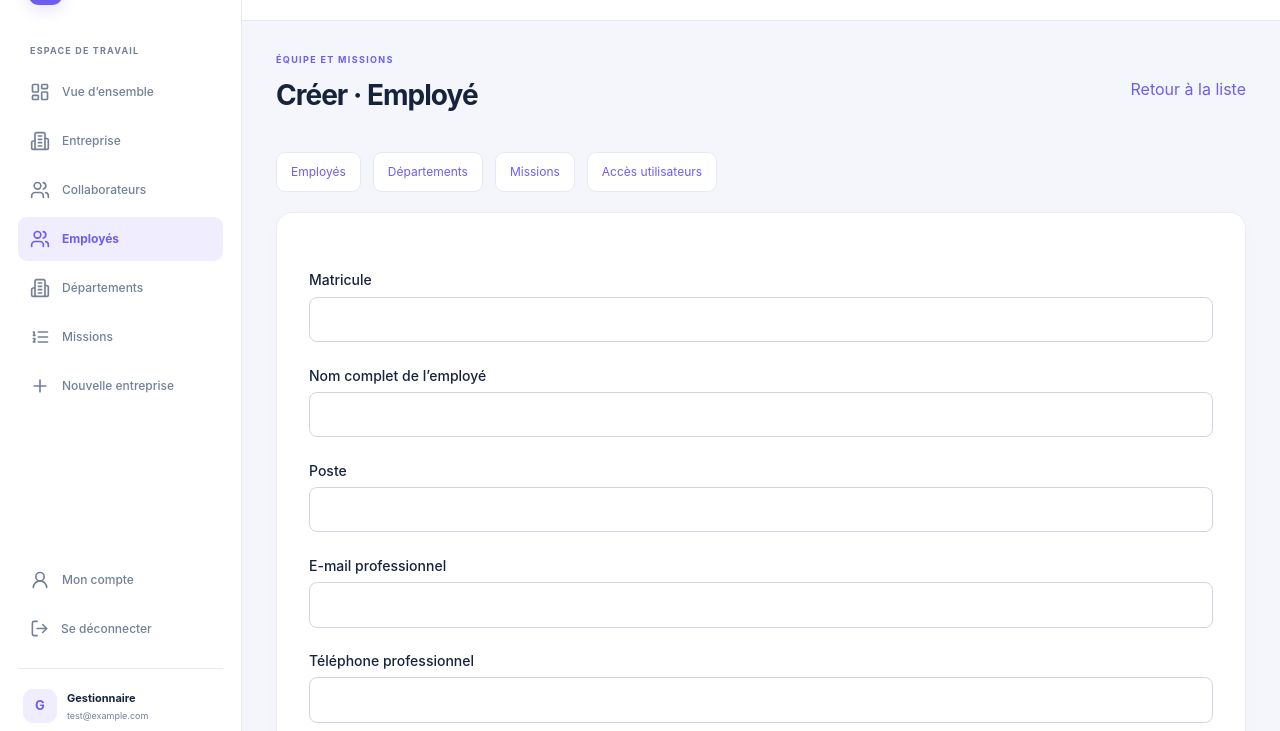
enregistre une fiche sans compte avec le département et des responsabilités
Type "EMP-01" into the field labelled "Matricule" at (761, 320), box top-left (309, 297), bottom-right (1213, 342)
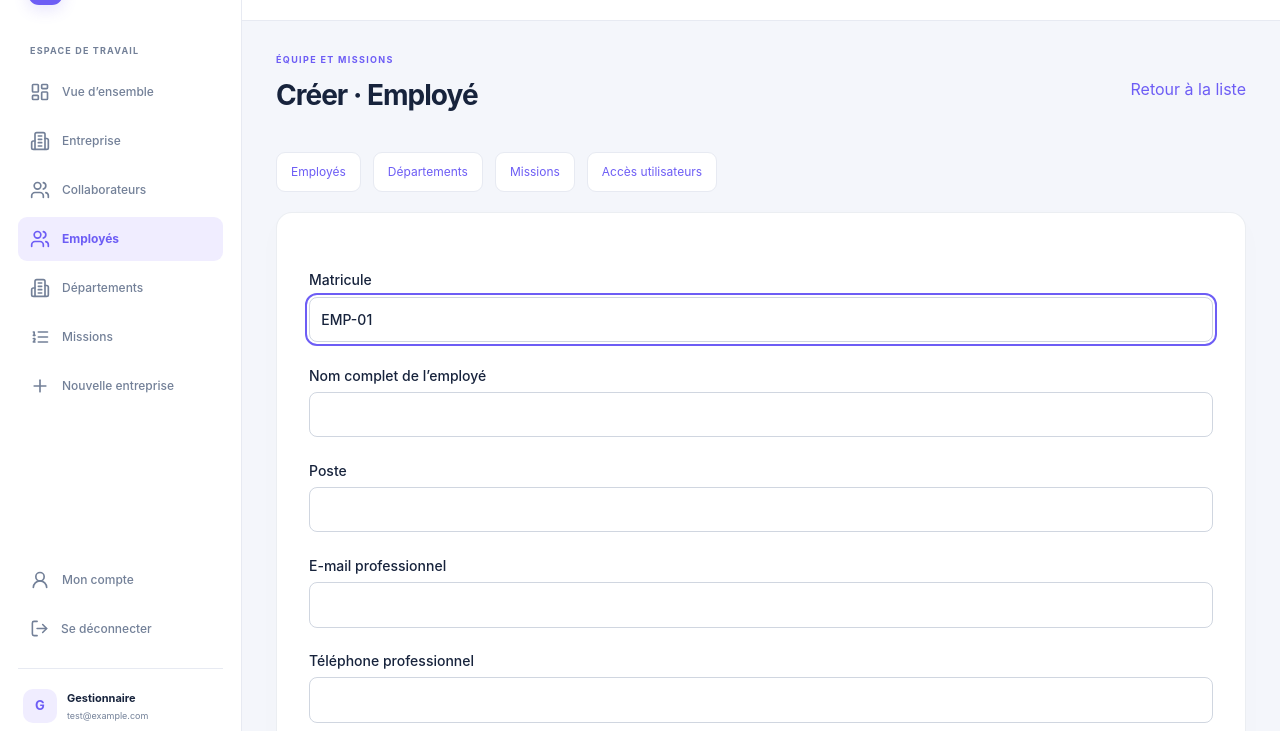
Type "Aminata Diallo" into the field labelled "Nom complet de l’employé" at (761, 415), box top-left (309, 392), bottom-right (1213, 437)
(page scrolled)
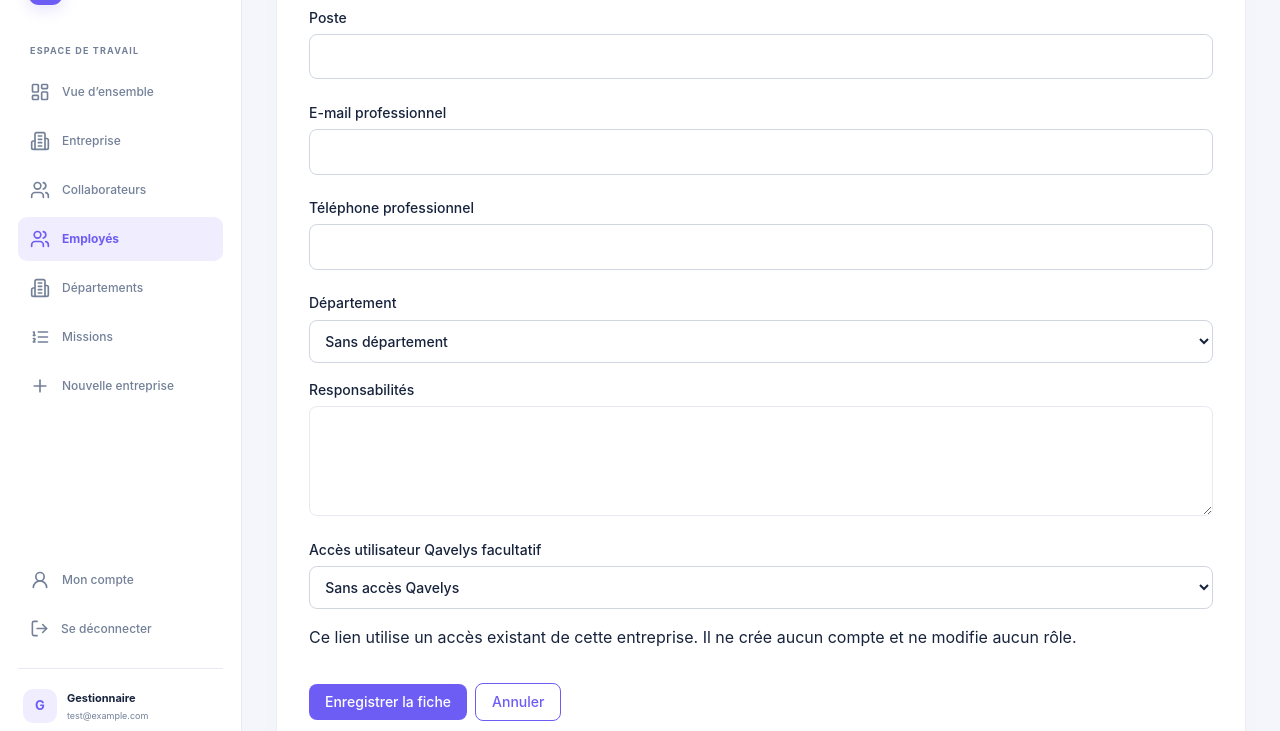
Select "Atelier" in the dropdown labelled "Département" at (761, 341), box top-left (309, 320), bottom-right (1213, 363)
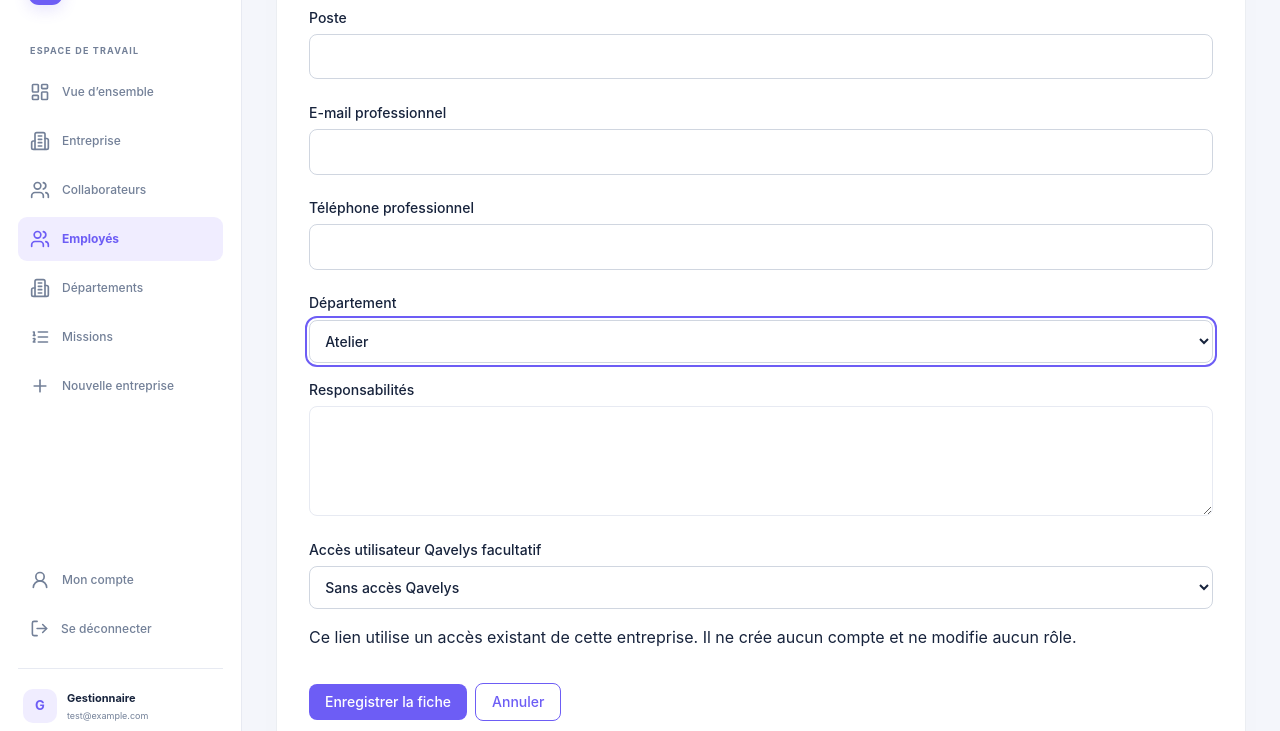
Type "Contrôle qualité" into the text box labelled "Responsabilités" at (761, 461), box top-left (309, 406), bottom-right (1213, 516)
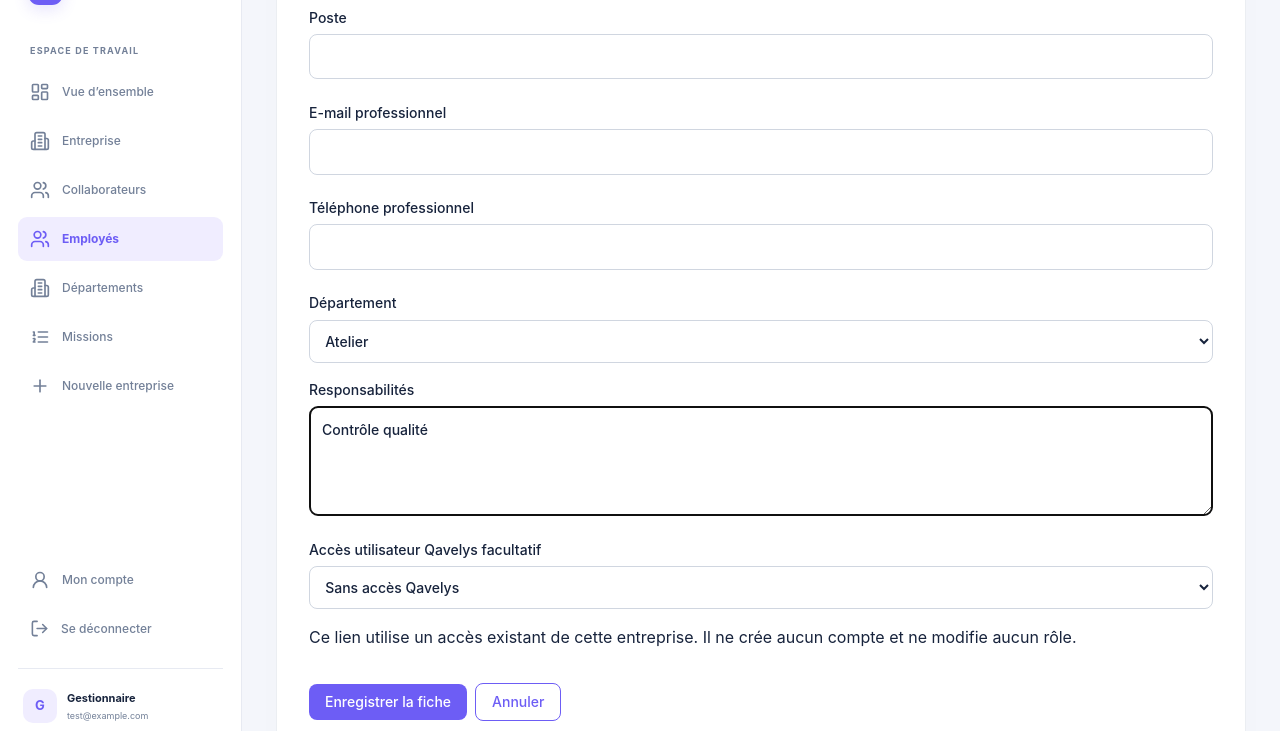
Click the button "Enregistrer la fiche" at (388, 702), box top-left (309, 684), bottom-right (467, 720)
(page scrolled)
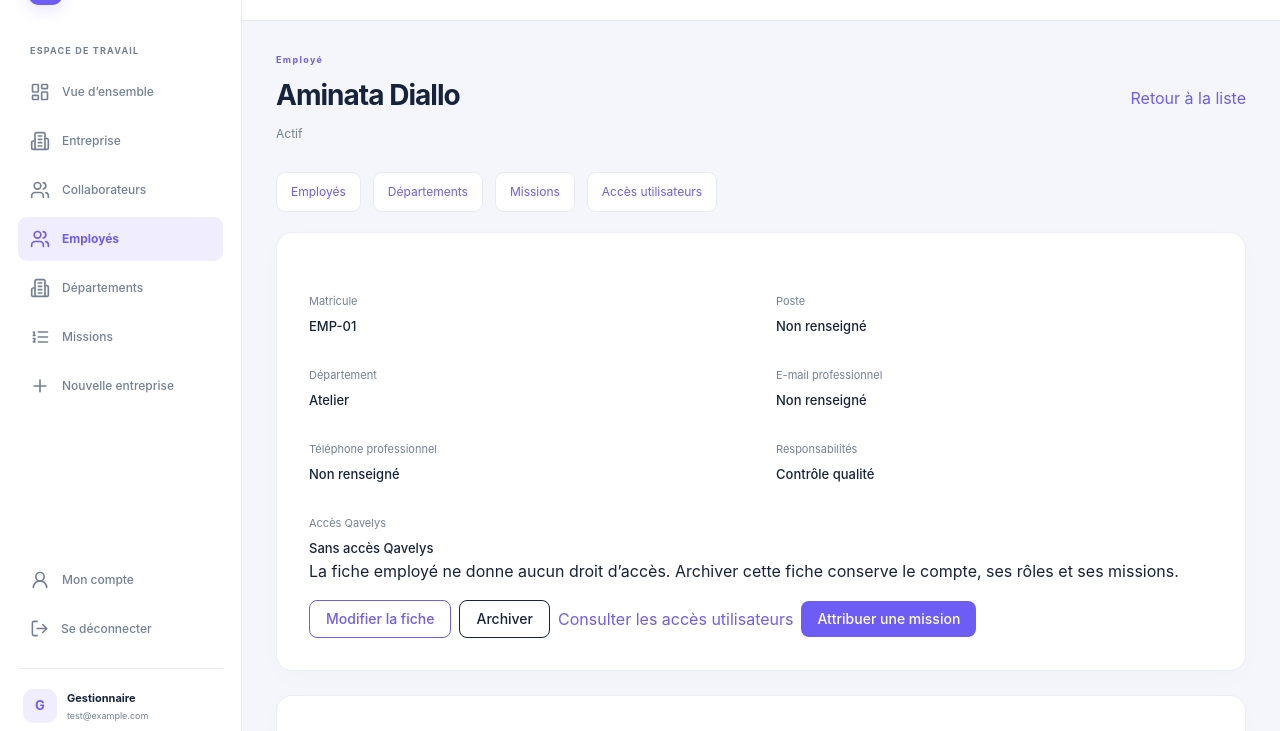
expect the heading "Aminata Diallo" is shown: met, box top-left (276, 74), bottom-right (460, 116)
expect the text "Sans accès Qavelys" is shown: met, box top-left (309, 540), bottom-right (433, 556)
